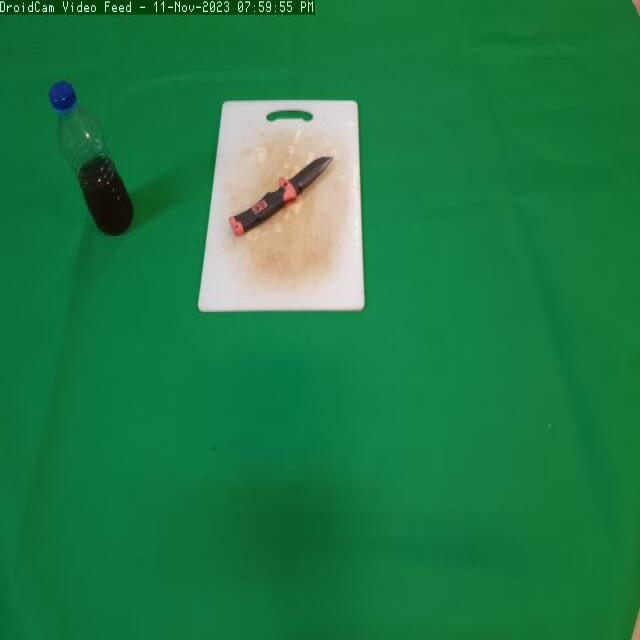cutting board: (198, 92, 379, 326)
fullbottle: (44, 70, 139, 246)
knife: (227, 146, 337, 242)
